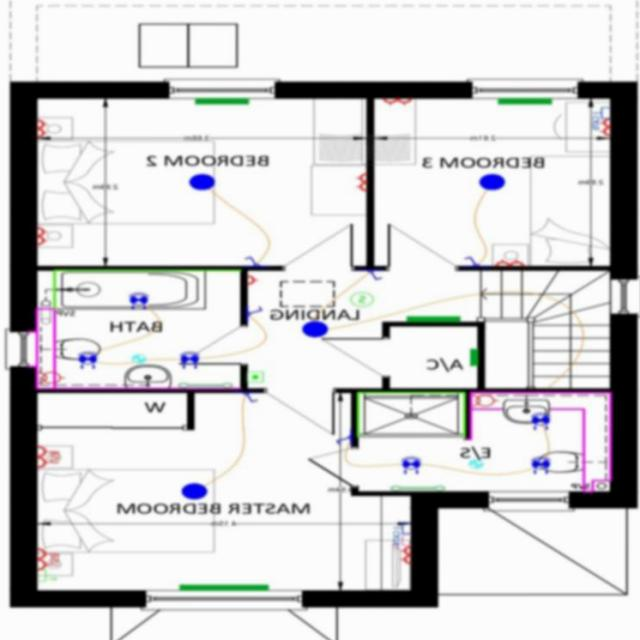Cat 6 Data Socket: (394, 523, 412, 546), (593, 105, 611, 128)
Ceiling Mounted Continuous Extract FanWith Boost Mode Activated By Light Switch: (470, 458, 484, 468), (133, 353, 147, 362)
Co-Ax TV Socket: (393, 533, 412, 549)
Double Socket: (384, 97, 413, 105), (495, 258, 525, 265), (357, 172, 368, 191), (600, 118, 611, 136), (38, 226, 49, 243), (402, 546, 412, 564), (39, 118, 49, 136)
Full Height Tiling: (55, 268, 241, 307), (358, 391, 468, 437)
Light Switch: (337, 433, 352, 445), (245, 255, 260, 266), (368, 270, 384, 280), (249, 305, 263, 316), (244, 392, 259, 402), (465, 256, 480, 265)
Low Energy Downlighter: (402, 456, 422, 474), (79, 350, 99, 368), (532, 412, 552, 429), (532, 456, 552, 473), (130, 292, 150, 309), (181, 351, 200, 368)
Low Energy Pendant Light: (480, 172, 507, 190), (190, 172, 216, 190), (183, 482, 208, 499), (303, 321, 328, 336)
Mains Wired Smoke Detector: (351, 291, 375, 306)
Programmable Room Thermostat: (248, 371, 265, 382)
Radiator: (180, 584, 270, 590), (197, 98, 250, 104), (499, 98, 554, 103), (408, 316, 462, 321), (471, 348, 480, 366)
Shaver Socket: (473, 393, 500, 408), (40, 371, 66, 384)
Single Socket: (249, 274, 260, 284)
Telephone Socket: (38, 569, 58, 580)
USB Double Socket: (39, 547, 60, 569), (38, 445, 59, 467)
